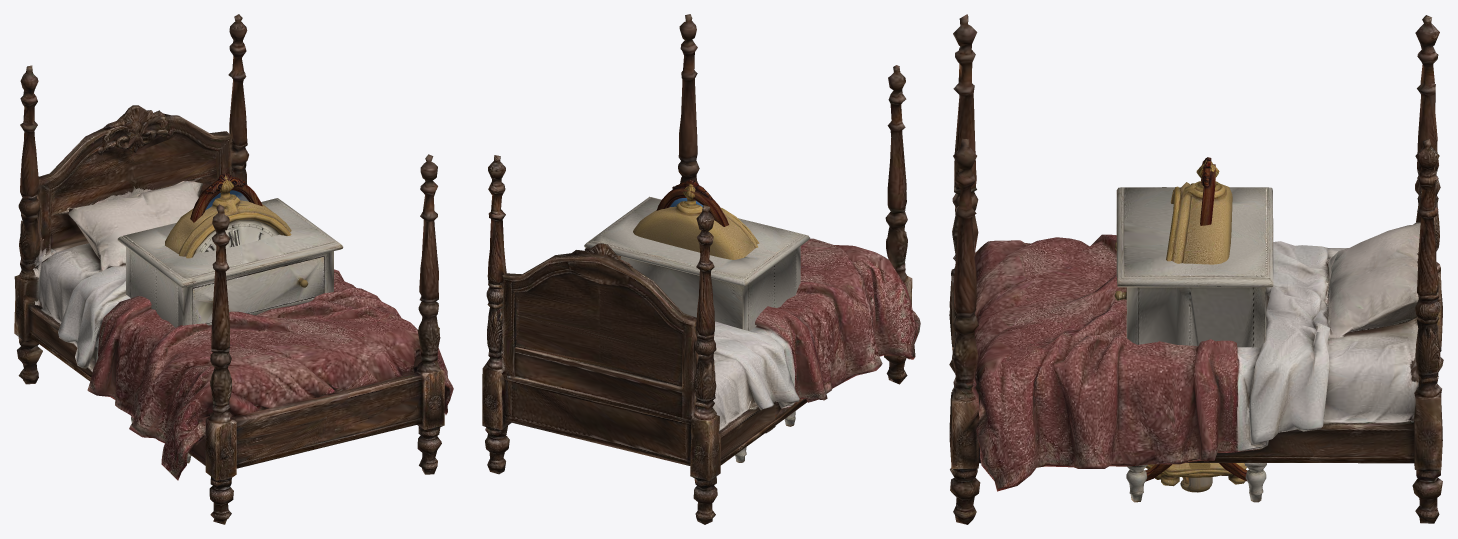
File: hero.glb
3 renders of one model, left to right at view 1: azimuth 30°, elevation 25°; view 2: azimuth 150°, elevation 25°; view 3: azimuth 270°, elevation 25°, orthographic. The views are drawn at different scales.
Parts seen in each view (by area): view 1: Bed, Drawers, Clock, Mirror; view 2: Bed, Drawers, Clock, Mirror; view 3: Bed, Drawers, Clock, Mirror.
Boxes of the visible parts, x1=… form: Bed: x1=14, y1=14, x2=453, y2=524; Drawers: x1=117, y1=198, x2=343, y2=463; Clock: x1=165, y1=176, x2=291, y2=258; Mirror: x1=190, y1=173, x2=262, y2=222; Bed: x1=482, y1=14, x2=920, y2=524; Drawers: x1=584, y1=196, x2=809, y2=462; Clock: x1=633, y1=184, x2=759, y2=259; Mirror: x1=656, y1=179, x2=728, y2=226; Bed: x1=949, y1=14, x2=1443, y2=524; Drawers: x1=1114, y1=187, x2=1273, y2=502; Clock: x1=1160, y1=160, x2=1246, y2=486; Mirror: x1=1145, y1=157, x2=1247, y2=481.
Bounding box in the file's own units: 1.29 × 1.48 × 1.62.
10 materials, 10 textured.
